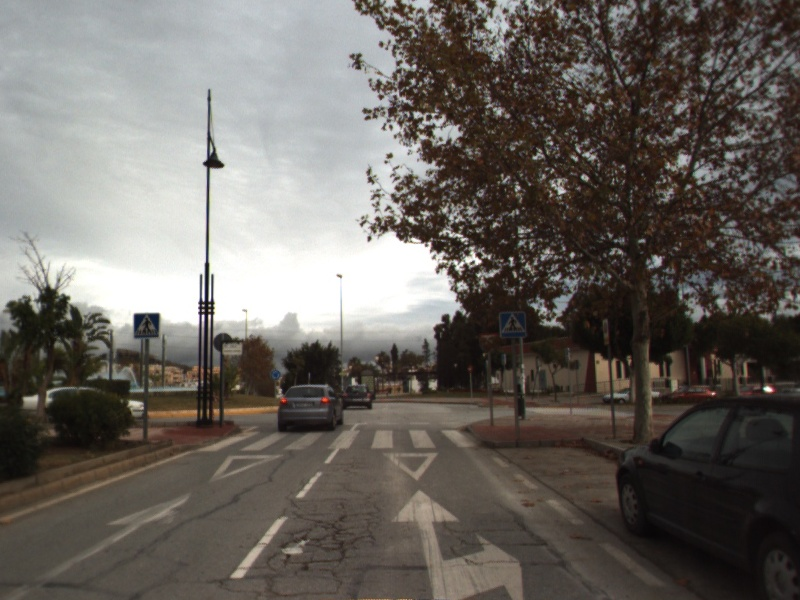STRAIGHT: (2, 486, 197, 600)
STRAIGHT_RIGHT: (387, 486, 528, 600)
